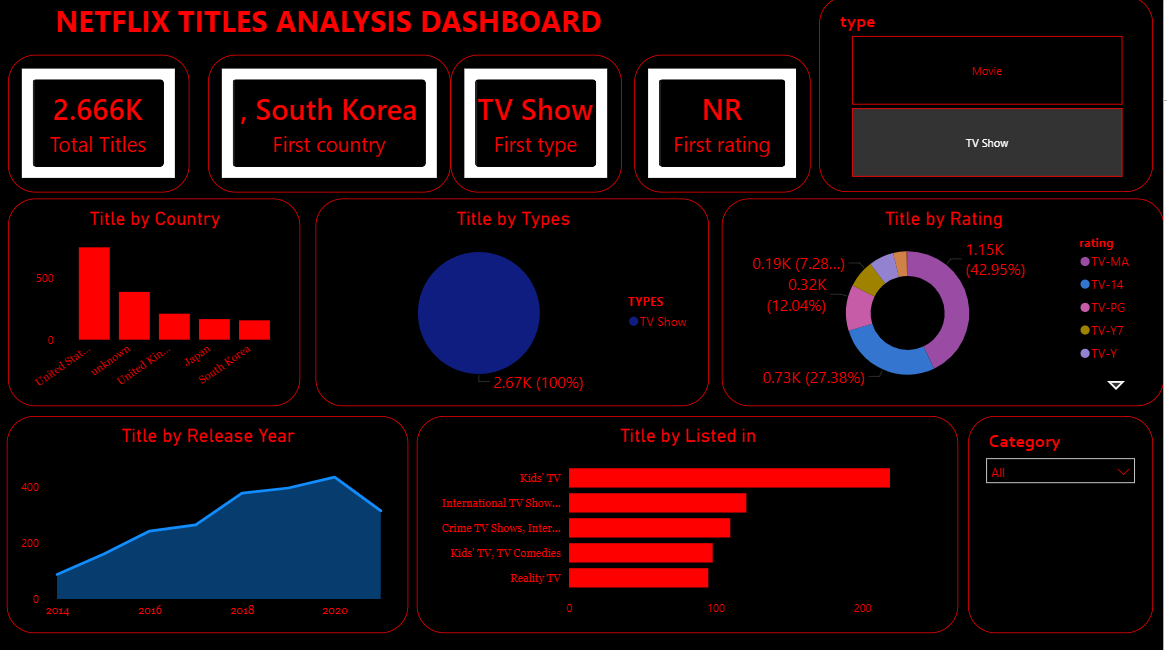

Layout of this report page (visuals, bound fields, positions):
{"tool":"powerbi","page":{"name":"Page 1","canvas":[1280,720],"ordinal":0},"visuals":[{"type":"textbox","box":[9.6,0,706.7,64.5],"z":0},{"type":"cardVisual","fields":{"Data":["netflix_clean.Total Titles"]},"box":[11,64.5,199,150.9],"z":1000},{"type":"cardVisual","fields":{"Data":["Min(netflix_clean.rating)"]},"box":[698.5,64.5,193.5,150.9],"z":2000},{"type":"cardVisual","fields":{"Data":["Min(netflix_clean.country)"]},"box":[230.5,64.5,266.2,150.9],"z":3000},{"type":"cardVisual","fields":{"Data":["Min(netflix_clean.type)"]},"box":[496.7,64.5,188,150.9],"z":4000},{"type":"columnChart","title":"Title by Country","fields":{"Category":["netflix_clean.country"],"Y":["CountNonNull(netflix_clean.title)"]},"box":[11,222.3,321.1,227.8],"z":5000},{"type":"stackedAreaChart","title":"Title by Release Year","fields":{"Category":["netflix_clean.release_year"],"Y":["CountNonNull(netflix_clean.title)"]},"box":[9.6,461.1,440.5,238.8],"z":6000},{"type":"pieChart","title":" Title by Types","fields":{"Y":["CountNonNull(netflix_clean.title)"],"Category":["netflix_clean.type"]},"box":[348.5,222.3,432.2,227.8],"z":7000},{"type":"barChart","title":" Title by Listed in","fields":{"Category":["netflix_clean.listed_in"],"Y":["CountNonNull(netflix_clean.title)"]},"box":[459.7,461.1,594.2,238.8],"z":8000},{"type":"donutChart","title":"Title by Rating","fields":{"Y":["CountNonNull(netflix_clean.title)"],"Category":["netflix_clean.rating"]},"box":[794.5,222.3,485.8,227.8],"z":9000},{"type":"slicer","fields":{"Values":["netflix_clean.listed_in"]},"box":[1064.8,461.1,203.1,238.8],"z":10000},{"type":"slicer","fields":{"Values":["netflix_clean.type"]},"box":[901.5,0,366.4,215.4],"z":11000}]}

Visuals, with their boxes in screenshot pixels (x1, y1, x2, y2), scaled from the page's 1280x720 canvas onto the 1167x650 screenshot:
textbox: rect(9, 0, 653, 58)
cardVisual - netflix_clean.Total Titles: rect(10, 58, 191, 194)
cardVisual - Min(netflix_clean.rating): rect(637, 58, 813, 194)
cardVisual - Min(netflix_clean.country): rect(210, 58, 453, 194)
cardVisual - Min(netflix_clean.type): rect(453, 58, 624, 194)
"Title by Country" columnChart: rect(10, 201, 303, 406)
"Title by Release Year" stackedAreaChart: rect(9, 416, 410, 632)
" Title by Types" pieChart: rect(318, 201, 712, 406)
" Title by Listed in" barChart: rect(419, 416, 961, 632)
"Title by Rating" donutChart: rect(724, 201, 1166, 406)
slicer - netflix_clean.listed_in: rect(971, 416, 1156, 632)
slicer - netflix_clean.type: rect(822, 0, 1156, 194)
